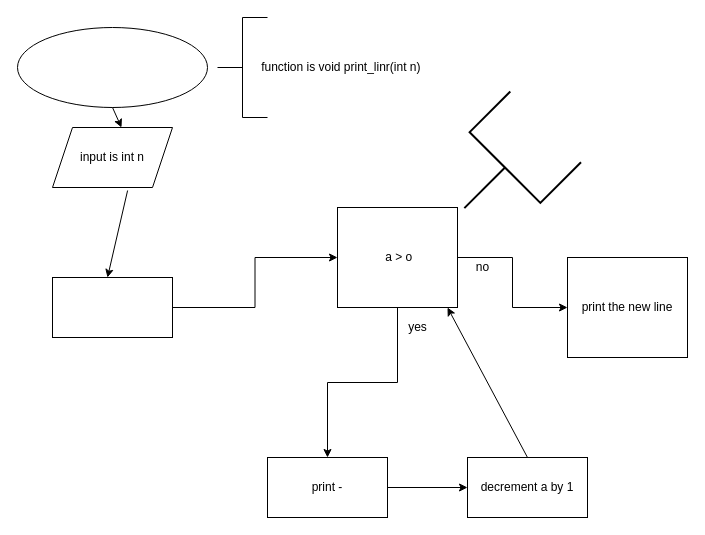
Image size: 705x535. Some labels were removed from this diagram. Each missing label, with the centre of its shape:
code starts here: the point at 112,67
initialize a variable int b and set it as equal to int n: the point at 112,307
while loop: the point at 504,167
